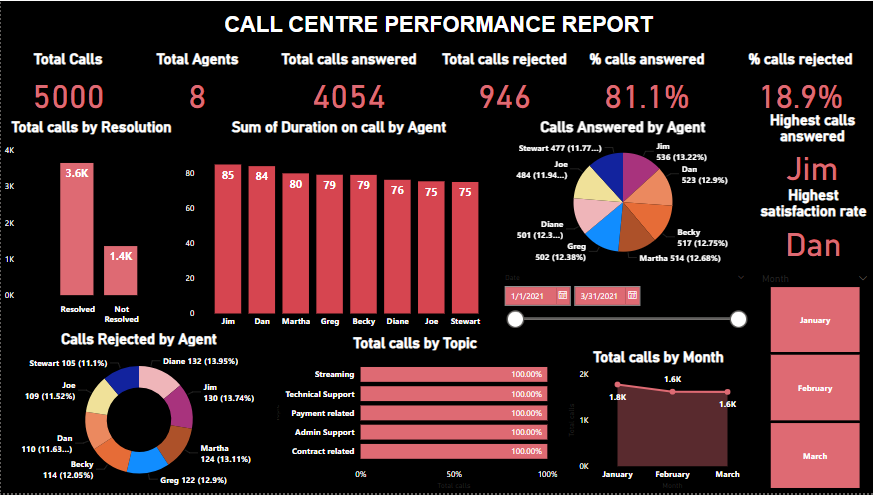

What the dashboard file says about the page in this screenshot:
{"tool":"powerbi","page":{"name":"Page 1","canvas":[1280,720],"ordinal":0},"visuals":[{"type":"card","title":"Total Calls","fields":{"Values":["Performance.Total calls"]},"box":[0,71.7,196.1,99.5],"z":0},{"type":"card","title":"Total Agents","fields":{"Values":["Performance.Agent"]},"box":[196.1,71.7,182.9,99.5],"z":1000},{"type":"card","title":"Total calls answered","fields":{"Values":["Performance.Calls Answered"]},"box":[379,71.7,260.5,99.5],"z":2000},{"type":"card","title":"Total calls rejected","fields":{"Values":["Performance.Calls Rejected"]},"box":[623.4,71.7,226.8,99.5],"z":3000},{"type":"card","title":"% calls answered","fields":{"Values":["Performance.% calls answered"]},"box":[829.8,71.7,231.2,99.5],"z":4000},{"type":"card","title":"% calls rejected","fields":{"Values":["Performance.% calls rejected"]},"box":[1061,71.7,218,99.5],"z":5000},{"type":"columnChart","fields":{"Y":["Performance.Total calls"],"Category":["Performance.Resolution"]},"box":[0,171.2,264.9,310.2],"z":6000},{"type":"card","title":"Highest calls answered","fields":{"Values":["Performance.Agent"]},"box":[1096.1,161,182.9,109.8],"z":7000},{"type":"card","title":"Highest satisfaction rate","fields":{"Values":["Performance.Agent"]},"box":[1097.6,270.7,182.9,111.2],"z":8000},{"type":"hundredPercentStackedBarChart","fields":{"Y":["Performance.Total calls"],"Category":["Performance.Topic"]},"box":[392.2,487.3,427.3,232.7],"z":9000},{"type":"columnChart","fields":{"Category":["Performance.Agent"],"Y":["Performance.Duration on call"]},"box":[264.9,171.2,459.5,316.1],"z":10000},{"type":"areaChart","fields":{"Y":["Performance.Total calls"],"Category":["Performance.Date.Variation.Date Hierarchy.Month"]},"box":[823.9,507.8,276.6,212.2],"z":11000},{"type":"slicer","fields":{"Values":["Performance.Date.Variation.Date Hierarchy.Month"]},"box":[1100.5,393.7,180,326.3],"z":12000},{"type":"slicer","fields":{"Values":["Performance.Date"]},"box":[724.4,393.7,376.1,114.1],"z":13000},{"type":"pieChart","title":"Calls Answered by Agent","fields":{"Category":["Performance.Agent"],"Y":["Performance.Calls Answered"]},"box":[724.4,171.2,371.7,222.4],"z":14000},{"type":"donutChart","title":"Calls Rejected by Agent","fields":{"Y":["Performance.Calls Rejected"],"Category":["Performance.Agent"]},"box":[0,481.5,403.9,238.5],"z":15000},{"type":"textbox","box":[0,11.7,1280.5,60],"z":16000}]}

Visuals, with their boxes in screenshot pixels (x1, y1, x2, y2), scaled from the page's 1280x720 canvas onto the 873x495 screenshot:
"Total Calls" card: box(0, 49, 134, 118)
"Total Agents" card: box(134, 49, 258, 118)
"Total calls answered" card: box(258, 49, 436, 118)
"Total calls rejected" card: box(425, 49, 580, 118)
"% calls answered" card: box(566, 49, 724, 118)
"% calls rejected" card: box(724, 49, 872, 118)
columnChart - Performance.Total calls x Performance.Resolution: box(0, 118, 181, 331)
"Highest calls answered" card: box(748, 111, 872, 186)
"Highest satisfaction rate" card: box(749, 186, 872, 263)
hundredPercentStackedBarChart - Performance.Total calls x Performance.Topic: box(267, 335, 559, 494)
columnChart - Performance.Agent x Performance.Duration on call: box(181, 118, 494, 335)
areaChart - Performance.Total calls x Performance.Date.Variation.Date Hierarchy.Month: box(562, 349, 751, 494)
slicer - Performance.Date.Variation.Date Hierarchy.Month: box(751, 271, 872, 494)
slicer - Performance.Date: box(494, 271, 751, 349)
"Calls Answered by Agent" pieChart: box(494, 118, 748, 271)
"Calls Rejected by Agent" donutChart: box(0, 331, 275, 494)
textbox: box(0, 8, 872, 49)
